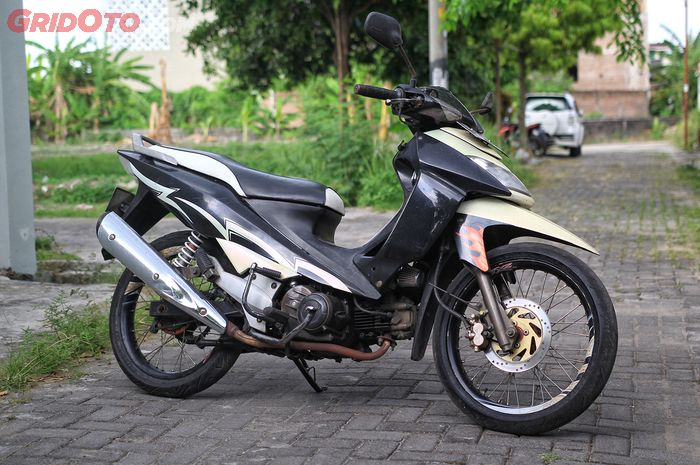motorcycle: (95, 83, 619, 436)
